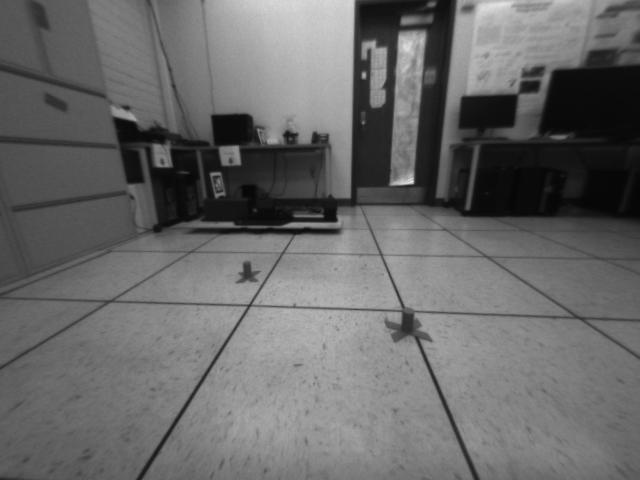X: (382, 308, 434, 345), (234, 260, 261, 286)
